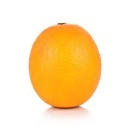orange: (27, 20, 102, 108)
